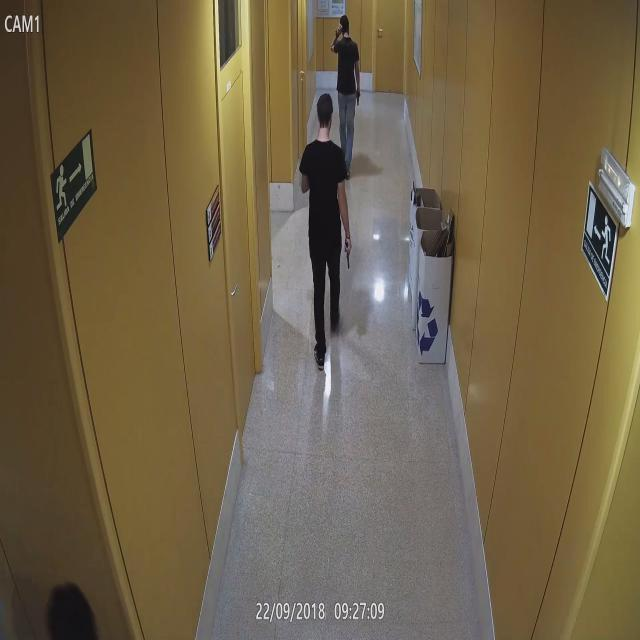weapon: (344, 238, 352, 270), (354, 86, 360, 106)
